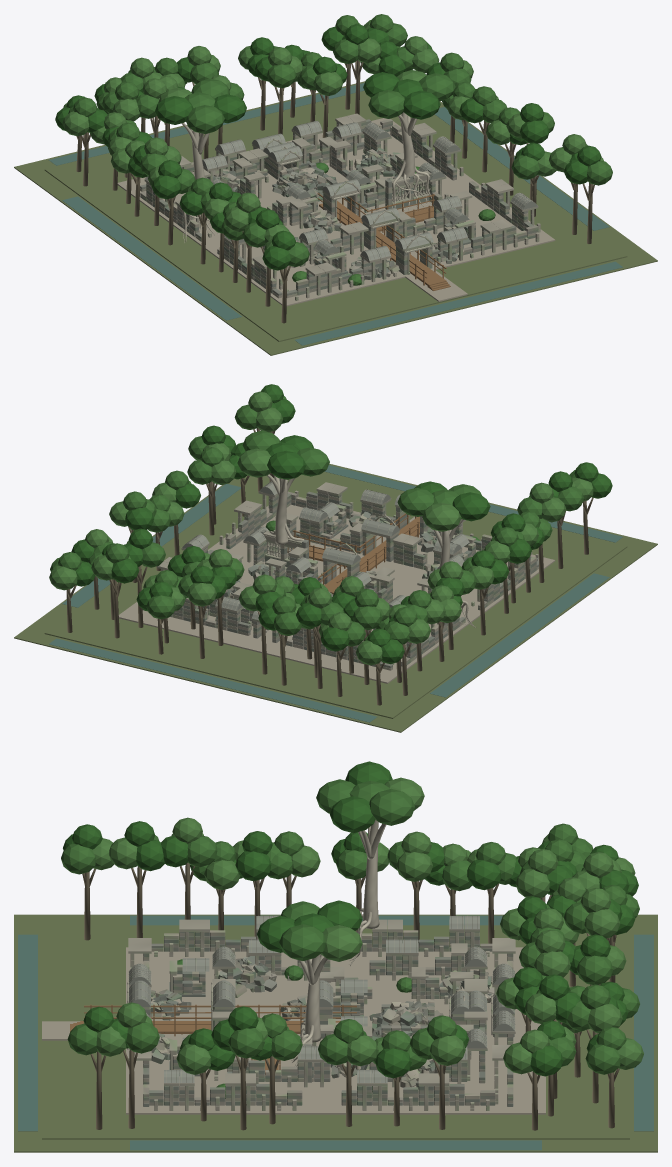
File: beng-mealea-ultra.glb
3 renders of one model, top to bottom at view 1: azimuth 30°, elevation 25°; view 2: azimuth 150°, elevation 25°; view 3: azimuth 270°, elevation 25°, orthographic. The views are drawn at different scales.
Parts seen in each view (by area): view 1: Forest floor, Forest canopy 1, Forest canopy 0, Carved sandstone, Forest canopy 2, Moat water, Courtyard paving, Forest trunks, Corbelled stone roofs, Weathered sandstone 0, Weathered sandstone 3, Weathered sandstone 2 (+3 smaller); view 2: Forest floor, Forest canopy 0, Forest canopy 1, Forest canopy 2, Moat water, Forest trunks, Courtyard paving, Carved sandstone, Weathered sandstone 0, Weathered sandstone 3, Weathered sandstone 2, Corbelled stone roofs (+3 smaller); view 3: Forest floor, Forest canopy 1, Forest canopy 2, Forest canopy 0, Courtyard paving, Moat water, Carved sandstone, Forest trunks, Corbelled stone roofs, Weathered sandstone 0, Weathered sandstone 3, Weathered sandstone 2 (+3 smaller).
Boxes of the visible parts, x1,y1,x2,y2 form: Forest floor: (14,81,657,355); Forest canopy 1: (68,14,612,285); Forest canopy 0: (55,24,601,270); Carved sandstone: (144,113,540,300); Forest canopy 2: (62,20,603,250); Moat water: (49,83,622,345); Courtyard paving: (117,118,555,306); Forest trunks: (76,60,594,323); Corbelled stone roofs: (145,121,537,260); Weathered sandstone 0: (140,119,538,295); Weathered sandstone 3: (140,124,538,298); Weathered sandstone 2: (146,128,535,289); Forest floor: (14,463,657,732); Forest canopy 0: (71,384,612,664); Forest canopy 1: (50,396,583,646); Forest canopy 2: (49,391,593,665); Moat water: (49,465,622,722); Forest trunks: (66,428,593,705); Courtyard paving: (118,504,555,683); Carved sandstone: (157,479,538,664); Weathered sandstone 0: (170,491,538,668); Weathered sandstone 3: (172,495,538,670); Weathered sandstone 2: (142,499,536,662); Corbelled stone roofs: (182,478,469,629); Forest floor: (14,914,657,1152); Forest canopy 1: (61,779,639,1098); Forest canopy 2: (92,777,643,1074); Forest canopy 0: (63,761,638,1078); Courtyard paving: (42,947,545,1114); Moat water: (18,915,653,1150); Carved sandstone: (127,916,515,1110); Forest trunks: (82,862,619,1130); Corbelled stone roofs: (129,916,514,1082); Weathered sandstone 0: (127,932,514,1105); Weathered sandstone 3: (143,930,513,1105); Weathered sandstone 2: (143,932,513,1106).
Bounding box in the file's own units: 40 × 14.26 × 46.
